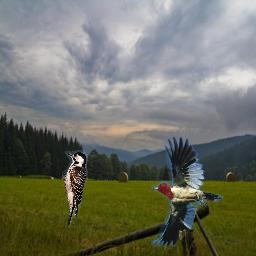Woodpecker: (151, 136, 223, 248), (62, 150, 88, 229)
